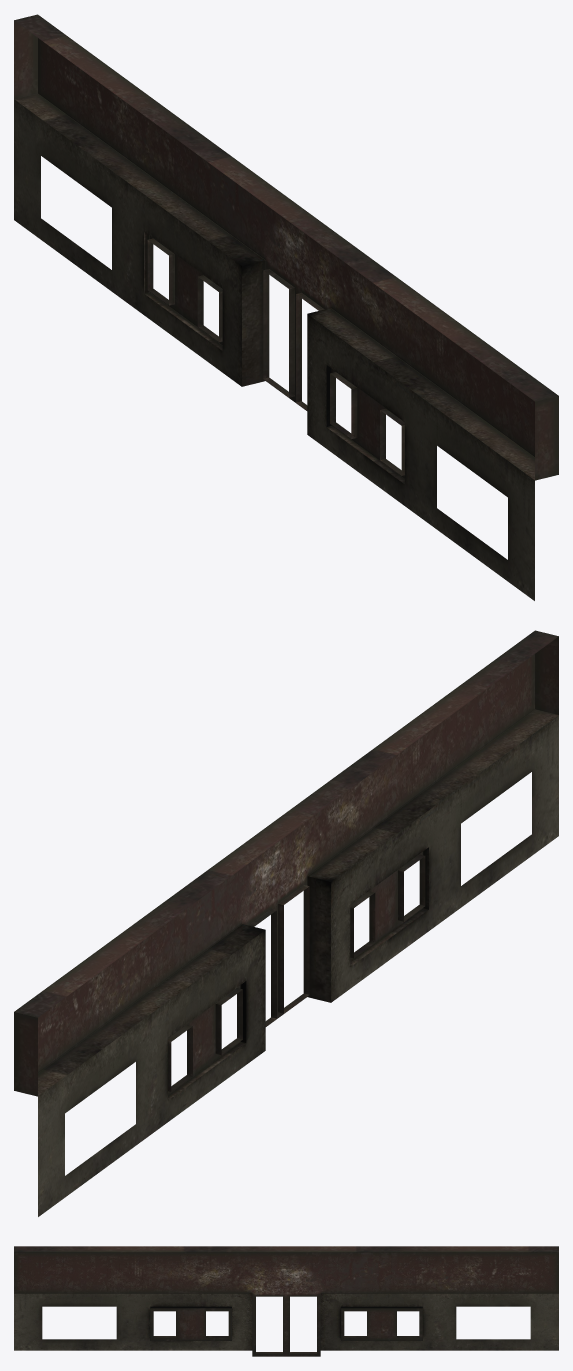
The model's file is Wall_01.FBX.
The picture shows the model from 3 angles, top to bottom: view 1: azimuth 30°, elevation 25°; view 2: azimuth 150°, elevation 25°; view 3: azimuth 270°, elevation 25°; orthographic projection. The views are drawn at different scales.
Visible parts, largest first — view 1: Wall_01; view 2: Wall_01; view 3: Wall_01.
Boxes of the visible parts, x1,y1,x2,y2 form: Wall_01: (14, 14, 558, 600); Wall_01: (14, 630, 558, 1216); Wall_01: (14, 1246, 558, 1356).
Size of the model in its own units: 80.93 by 647 by 3061.
